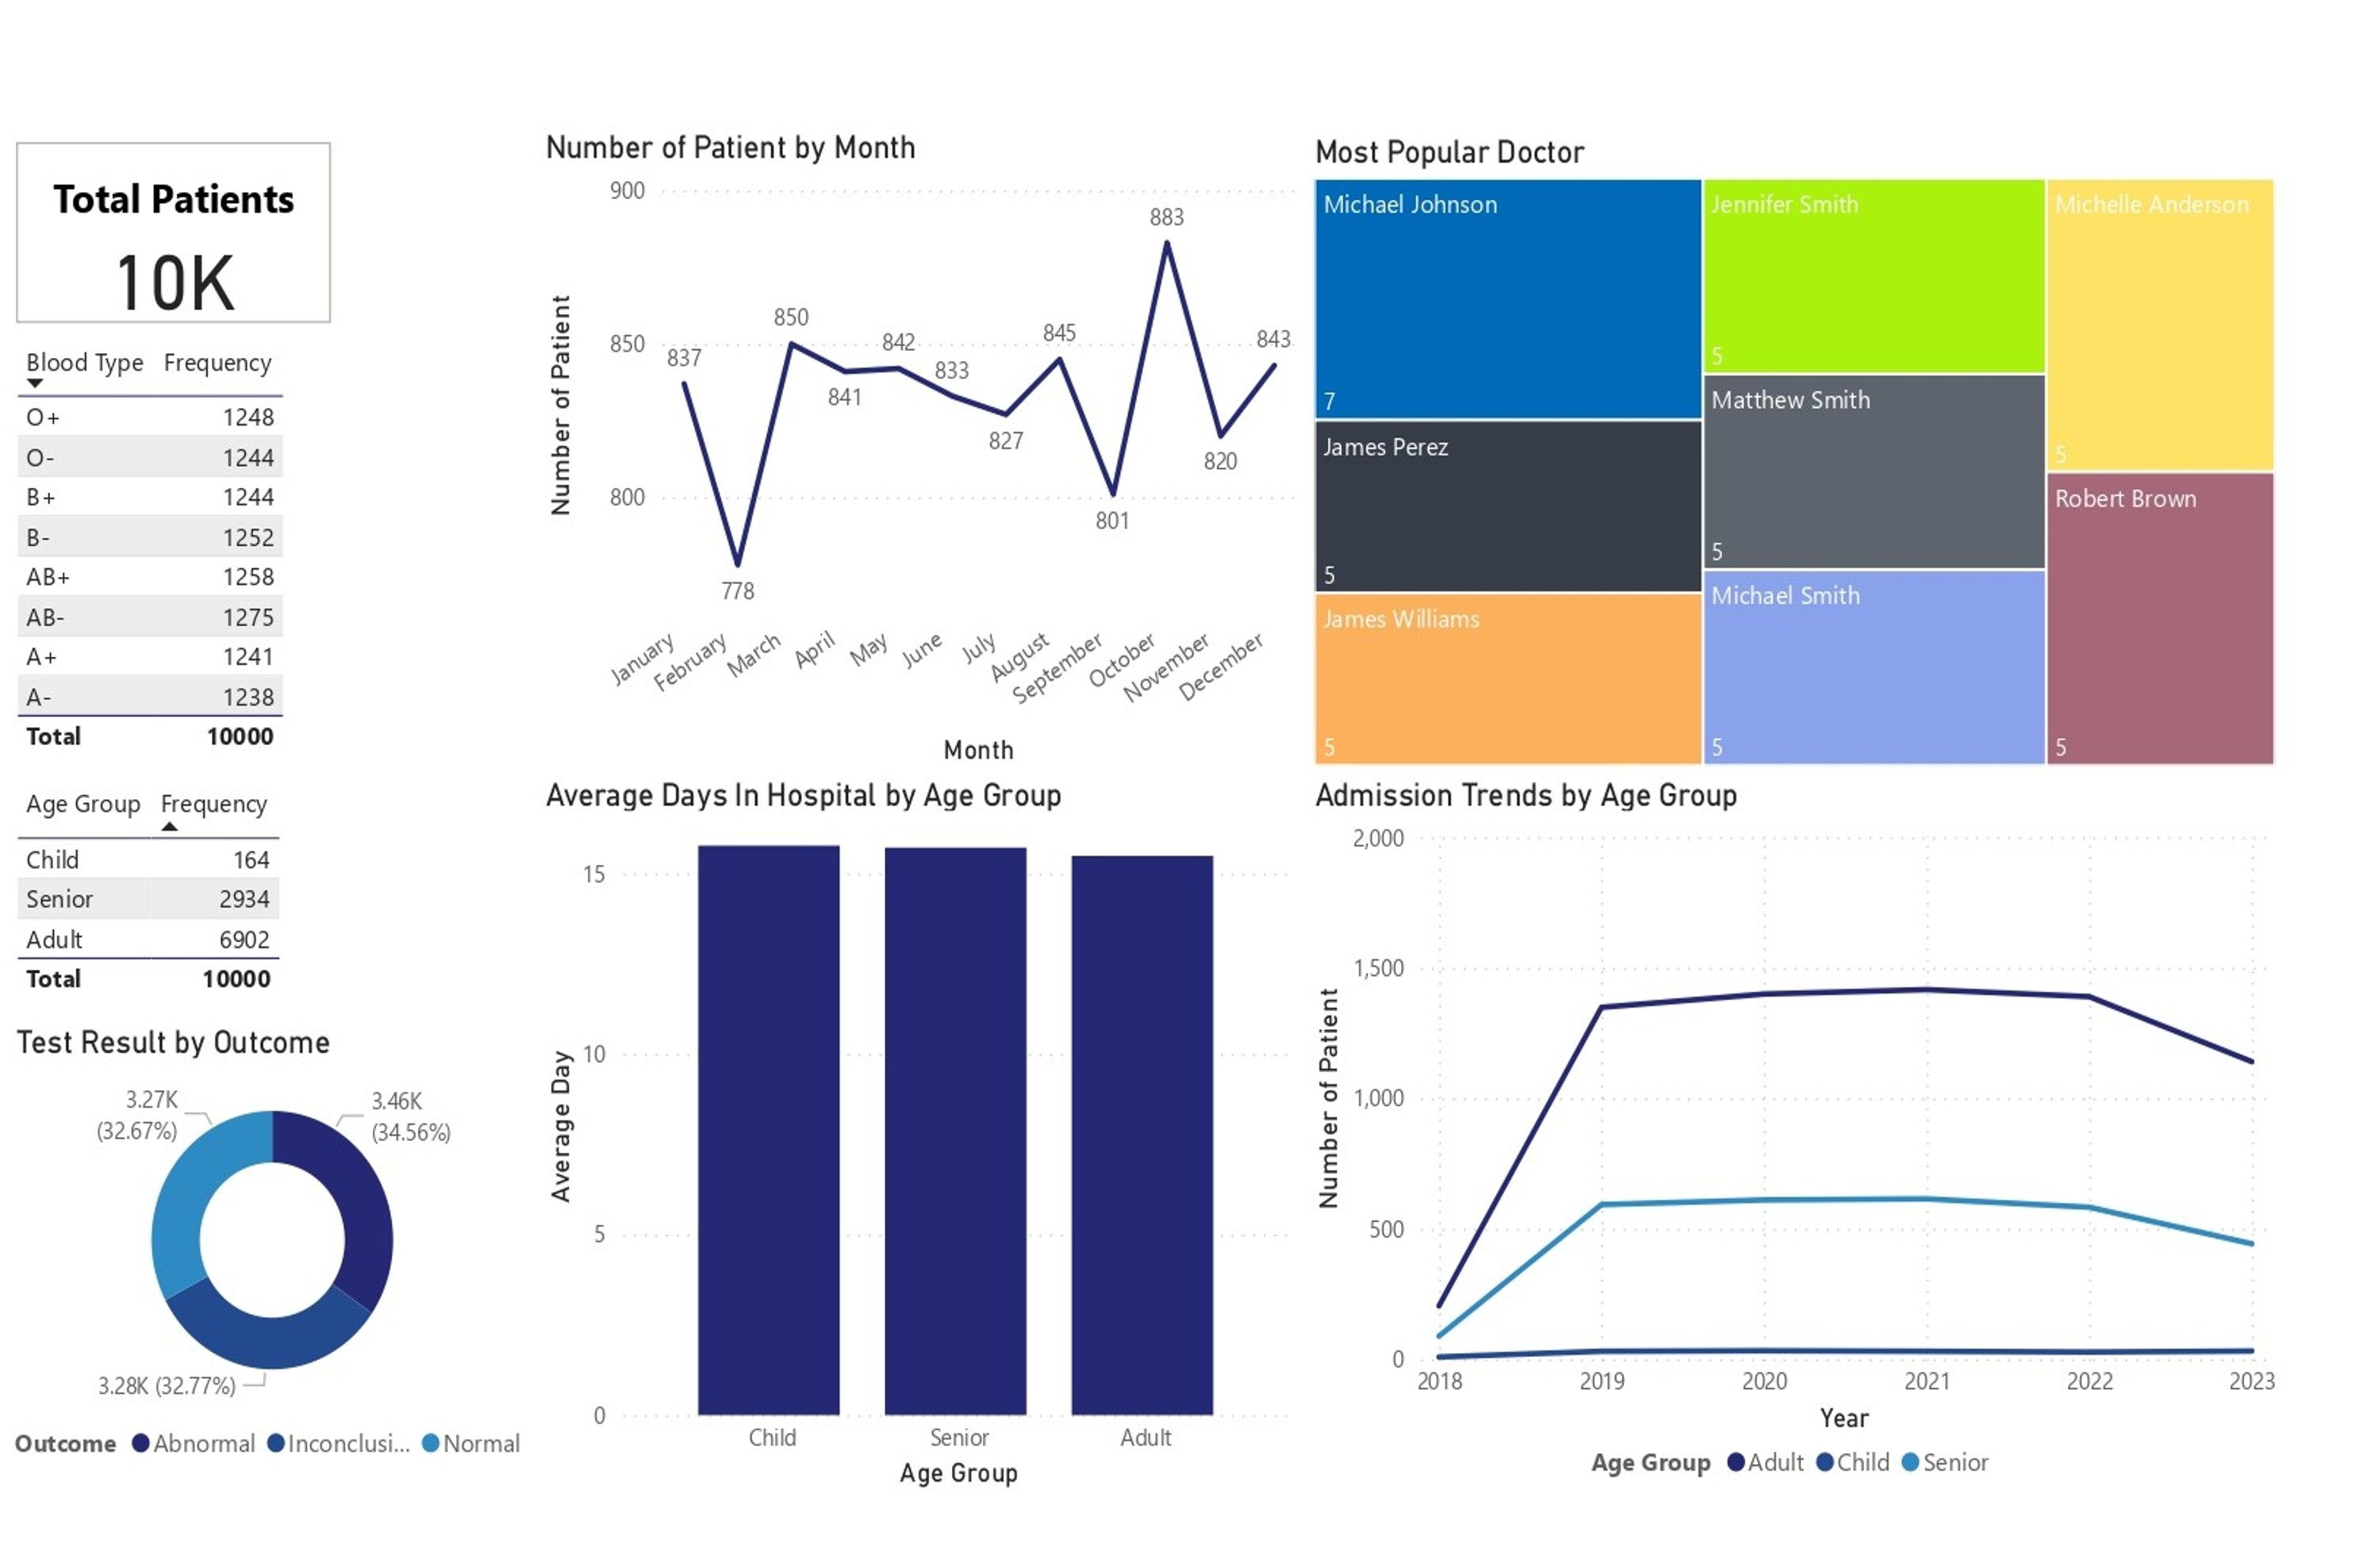

What the dashboard file says about the page in this screenshot:
{"tool":"powerbi","page":{"name":"Page 3","canvas":[1280,720],"ordinal":2},"visuals":[{"type":"tableEx","fields":{"Values":["healthcare_dataset.Age Group","healthcare_dataset.Name"]},"box":[0,340,297.5,130],"z":0},{"type":"tableEx","fields":{"Values":["healthcare_dataset.Blood Type","healthcare_dataset.Name"]},"box":[0,108,298,232],"z":1},{"type":"cardVisual","fields":{"Data":["CountNonNull(healthcare_dataset.Name)"]},"box":[0,2.5,187.5,105],"z":2},{"type":"lineChart","title":"Number of Patient by Month","fields":{"Category":["healthcare_dataset.Date of Admission.Variation.Date Hierarchy.Month"],"Y":["CountNonNull(healthcare_dataset.Name)"]},"box":[298,0,432,340],"z":3},{"type":"lineChart","title":"Admission Trends by Age Group","fields":{"Category":["healthcare_dataset.Date of Admission.Variation.Date Hierarchy.Year","healthcare_dataset.Date of Admission.Variation.Date Hierarchy.Month"],"Y":["CountNonNull(healthcare_dataset.Age Group)"],"Series":["healthcare_dataset.Age Group"]},"box":[730,340,550,380],"z":4},{"type":"treemap","title":"Most Popular Doctor","fields":{"Group":["healthcare_dataset.Doctor"],"Values":["CountNonNull(healthcare_dataset.Doctor)"]},"box":[730,2,550,338],"z":5},{"type":"donutChart","fields":{"Category":["healthcare_dataset.Test Results"],"Y":["CountNonNull(healthcare_dataset.Test Results)"]},"box":[0,470,298,240],"z":6},{"type":"clusteredColumnChart","title":"Average Days In Hospital by Age Group","fields":{"Y":["Avg(healthcare_dataset.Days In Hospital)"],"Category":["healthcare_dataset.Age Group"]},"box":[298,340,432,380],"z":7}]}

Visuals, with their boxes on the page's 1280x720 design canvas (x1, y1, x2, y2). These are canvas units, not pixel positions in the 2380x1549 screenshot, which may show the page scaled, cropped or inside an application window:
tableEx - healthcare_dataset.Age Group x healthcare_dataset.Name: l=0, t=340, r=298, b=470
tableEx - healthcare_dataset.Blood Type x healthcare_dataset.Name: l=0, t=108, r=298, b=340
cardVisual - CountNonNull(healthcare_dataset.Name): l=0, t=2, r=188, b=108
"Number of Patient by Month" lineChart: l=298, t=0, r=730, b=340
"Admission Trends by Age Group" lineChart: l=730, t=340, r=1280, b=720
"Most Popular Doctor" treemap: l=730, t=2, r=1280, b=340
donutChart - healthcare_dataset.Test Results x CountNonNull(healthcare_dataset.Test Results): l=0, t=470, r=298, b=710
"Average Days In Hospital by Age Group" clusteredColumnChart: l=298, t=340, r=730, b=720
